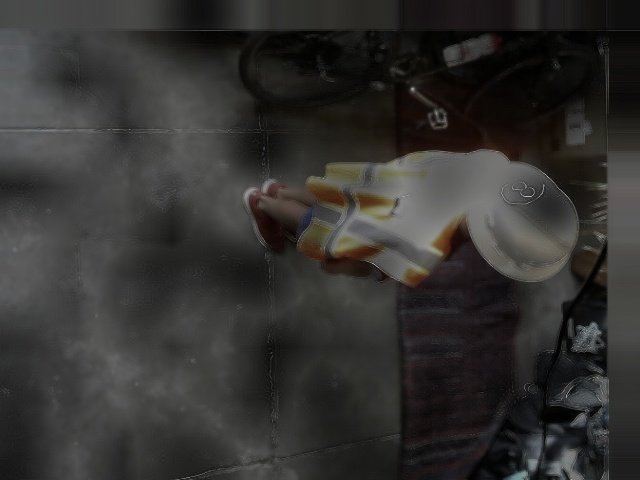eight: (499, 175, 545, 204)
